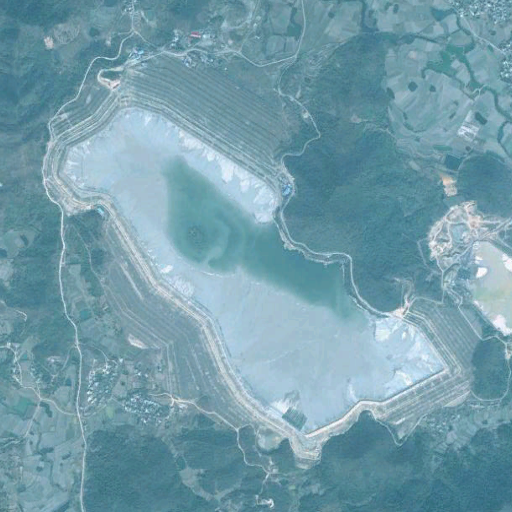tp: (45, 58, 475, 445)
